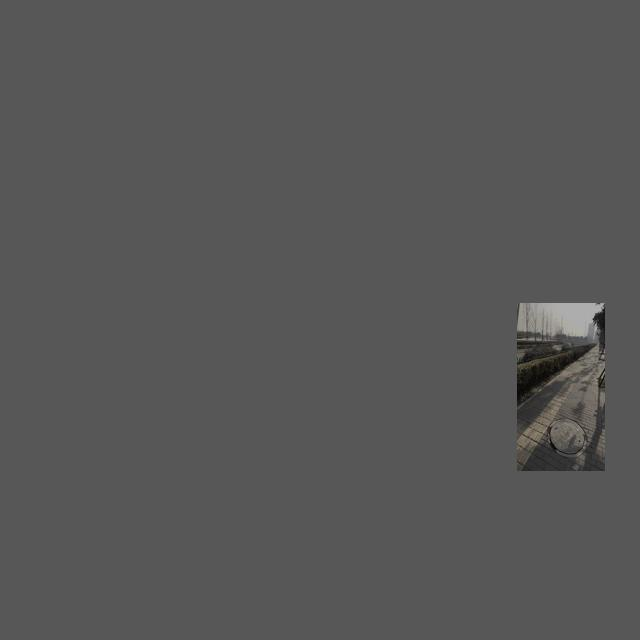circle: (546, 418, 587, 457)
